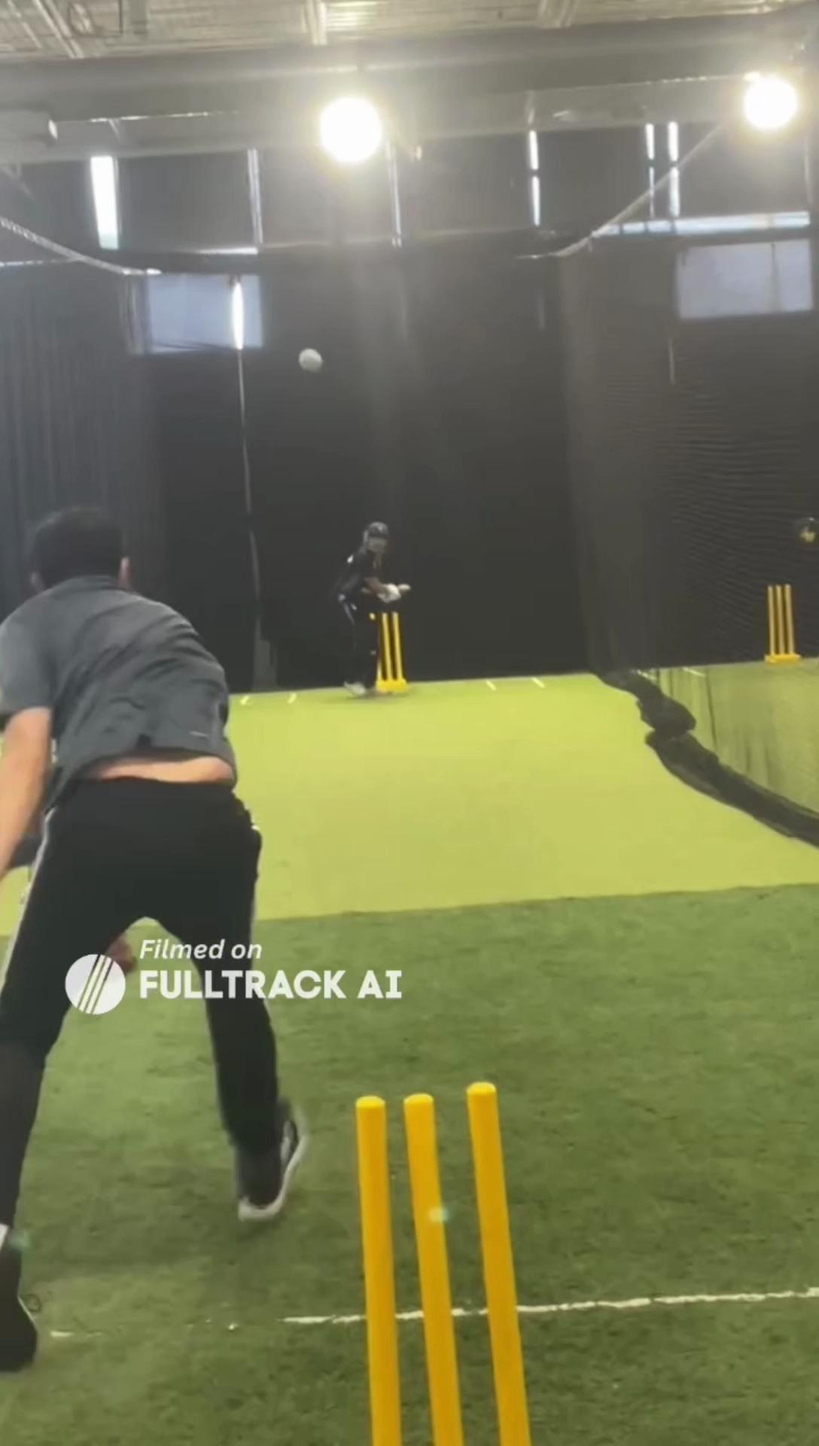ball: (279, 334, 345, 393)
